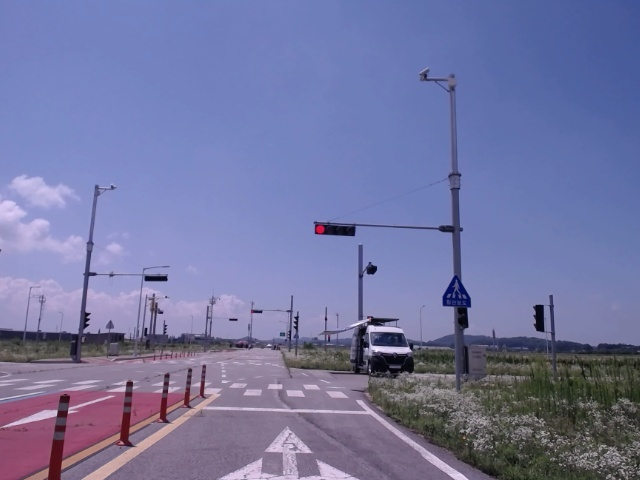red_4: (315, 224, 356, 236)
